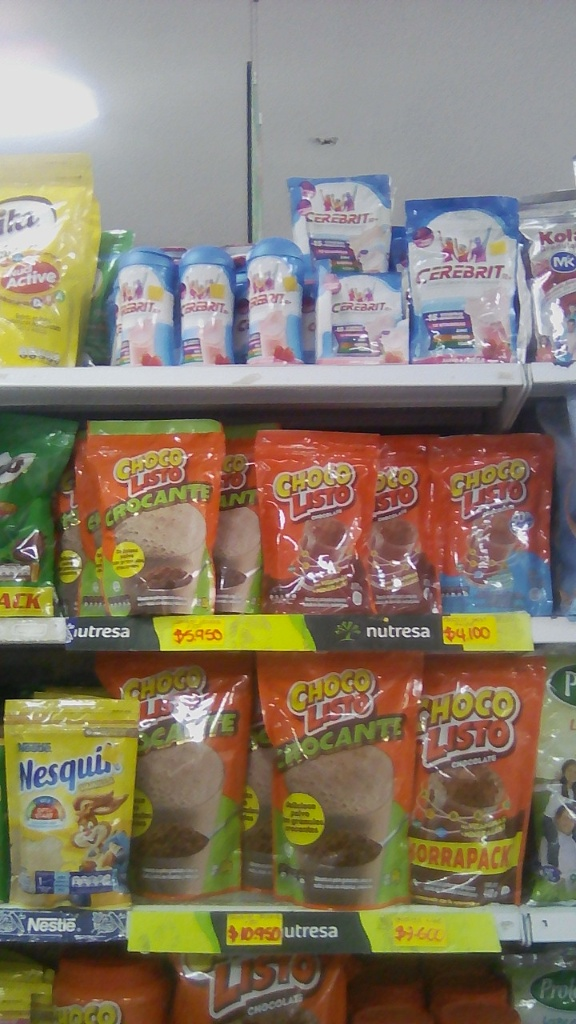COL0170102DYP25000: (86, 419, 215, 617)
COL0170102DYP50000: (103, 656, 250, 901)
COL0170103DYP20000: (260, 433, 376, 609)
COL0170103DYP40000: (417, 654, 526, 909)
COL0170104DYP20000: (434, 437, 556, 622)
COL0170306DYP20000: (5, 701, 130, 909)
